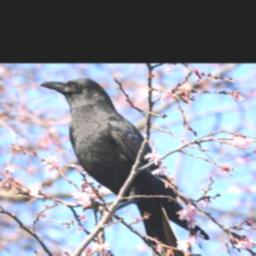Crow: (39, 75, 211, 256)
